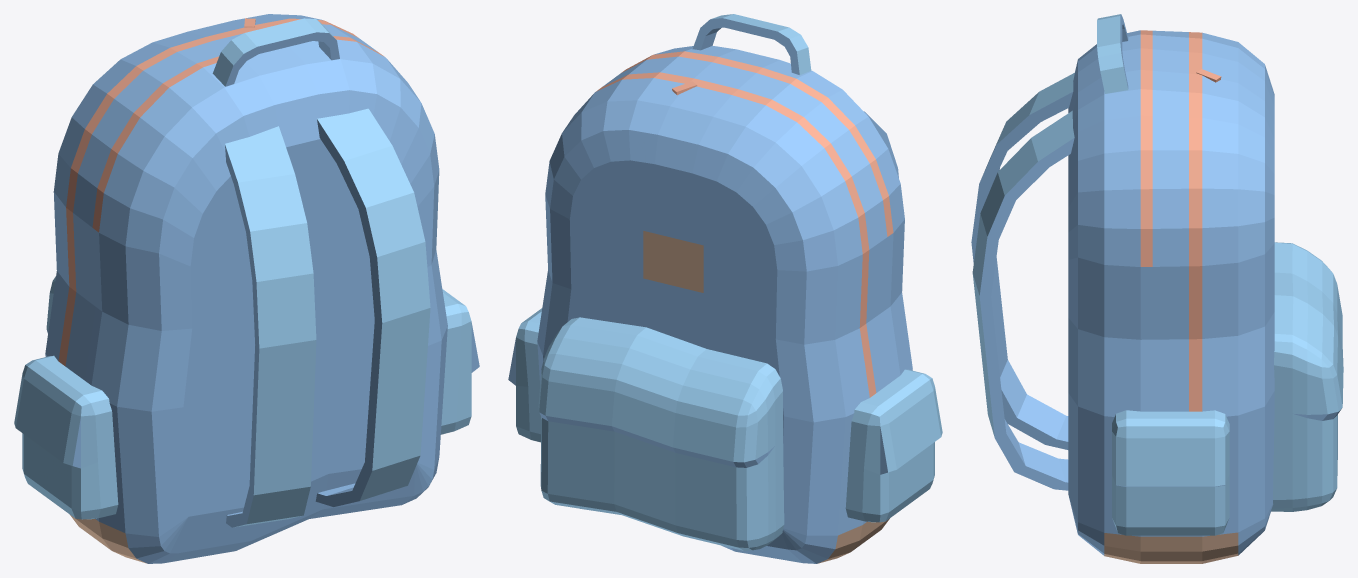
File: Backpack 1.fbx
3 renders of one model, left to right at view 1: azimuth 30°, elevation 25°; view 2: azimuth 150°, elevation 25°; view 3: azimuth 270°, elevation 25°, orthographic. The views are drawn at different scales.
Visible parts, largest first — view 1: Backpack 1; view 2: Backpack 1; view 3: Backpack 1.
Boxes of the visible parts, x1,y1,x2,y2 form: Backpack 1: [14, 14, 479, 563]; Backpack 1: [508, 14, 942, 563]; Backpack 1: [971, 14, 1343, 563].
Size of the model in its own units: 0.3213 by 0.3811 by 0.2674.
